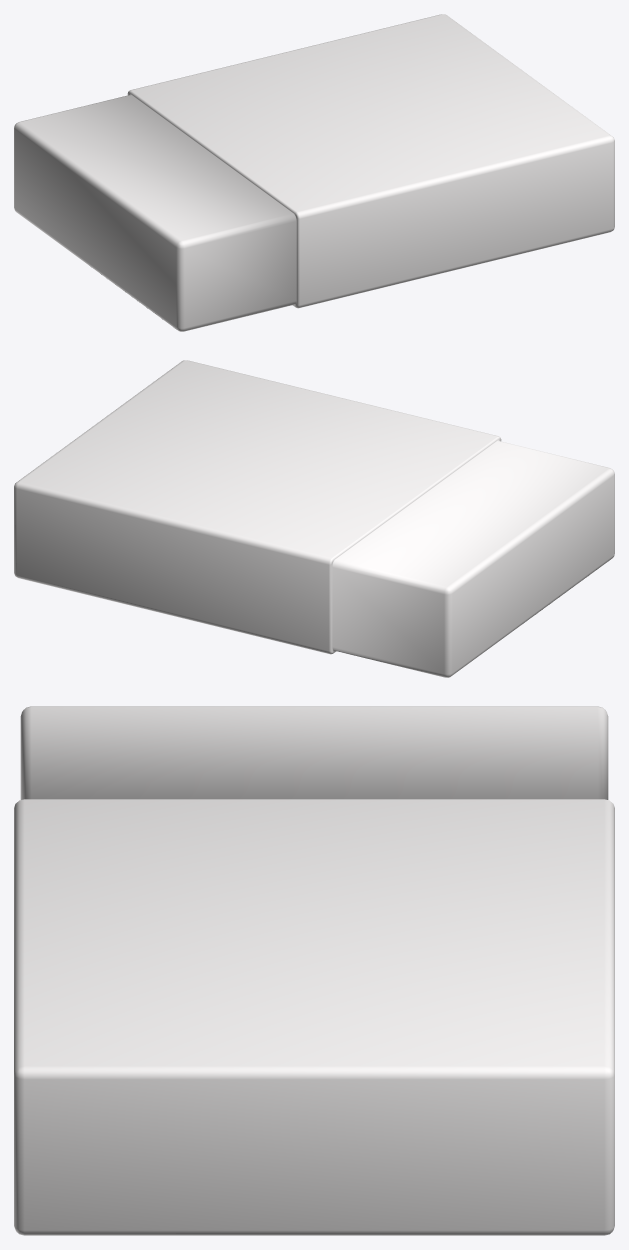
Rendered from F_PaperStack 1.fbx.
The picture shows the model from 3 angles, top to bottom: view 1: azimuth 30°, elevation 25°; view 2: azimuth 150°, elevation 25°; view 3: azimuth 270°, elevation 25°; orthographic projection. The views are drawn at different scales.
Visible parts, largest first — view 1: Cube.001; view 2: Cube.001; view 3: Cube.001.
Boxes of the visible parts, <box> form: Cube.001: <box>14,14,614,331</box>; Cube.001: <box>14,360,614,677</box>; Cube.001: <box>14,706,614,1235</box>.
Bounding box in the file's own units: 2997 × 632 × 2041.
